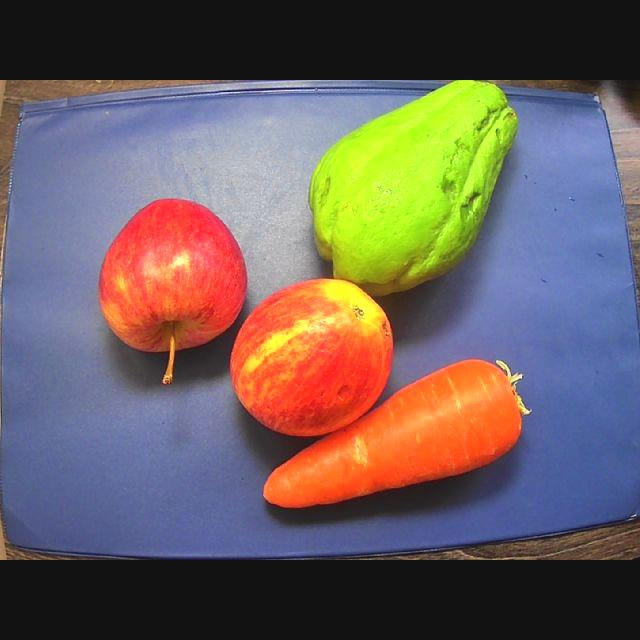chayote: (308, 80, 517, 295)
manzana: (98, 199, 246, 383), (231, 279, 393, 436)
zanahoria: (263, 359, 530, 507)
